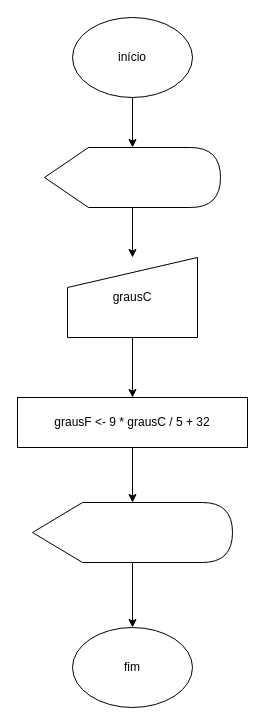
Image size: 265x725. Some labels were removed from this diagram. The shapes that lost their labels are listed below. From the top down, each one's centre as x and y in pixels, then its label:
pixel 132 177: "Digite a temperatura em °C"
pixel 132 532: "Essa temperatura em °F é igual a ", grausF
